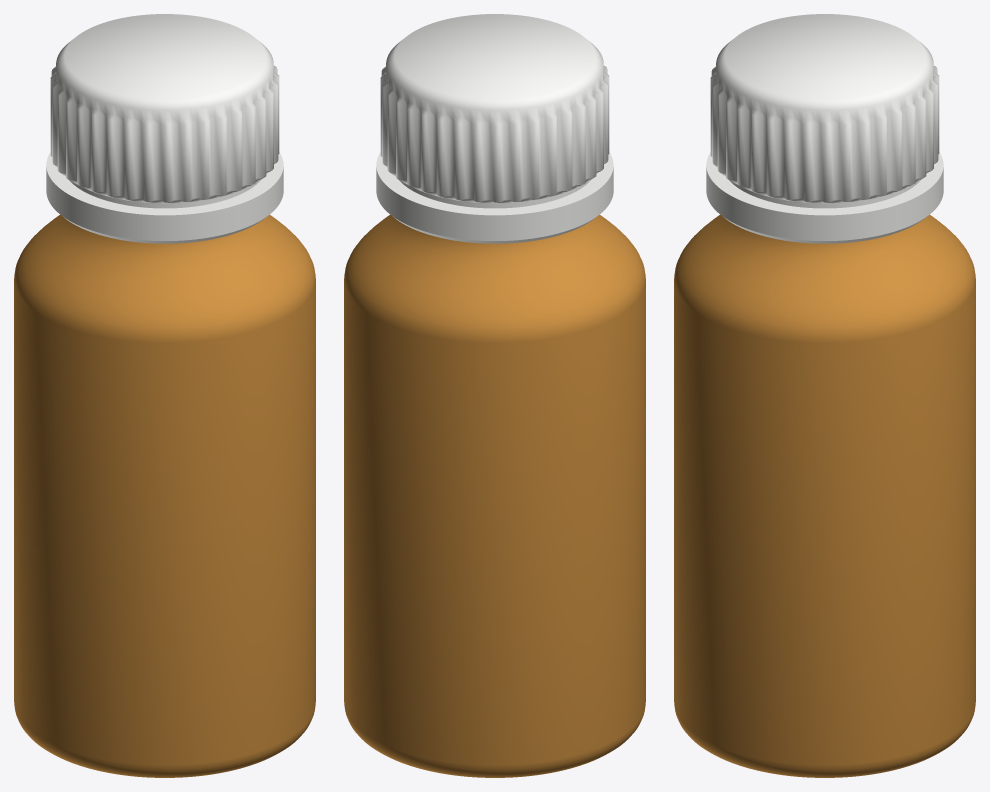
The model's file is amber_bottle_020ml.glb.
The picture shows the model from 3 angles, left to right: view 1: azimuth 30°, elevation 25°; view 2: azimuth 150°, elevation 25°; view 3: azimuth 270°, elevation 25°; orthographic projection.
Visible parts, largest first — view 1: Bottle_020ml, Cap_020ml_PP18; view 2: Bottle_020ml, Cap_020ml_PP18; view 3: Bottle_020ml, Cap_020ml_PP18.
Boxes of the visible parts, box(x1,y1,x2,y2) form: Bottle_020ml: box(14, 214, 315, 777); Cap_020ml_PP18: box(46, 14, 283, 243); Bottle_020ml: box(344, 214, 645, 777); Cap_020ml_PP18: box(376, 14, 613, 243); Bottle_020ml: box(674, 214, 975, 777); Cap_020ml_PP18: box(706, 14, 943, 243).
Bounding box in the file's own units: 0.0277 × 0.0675 × 0.0277.
